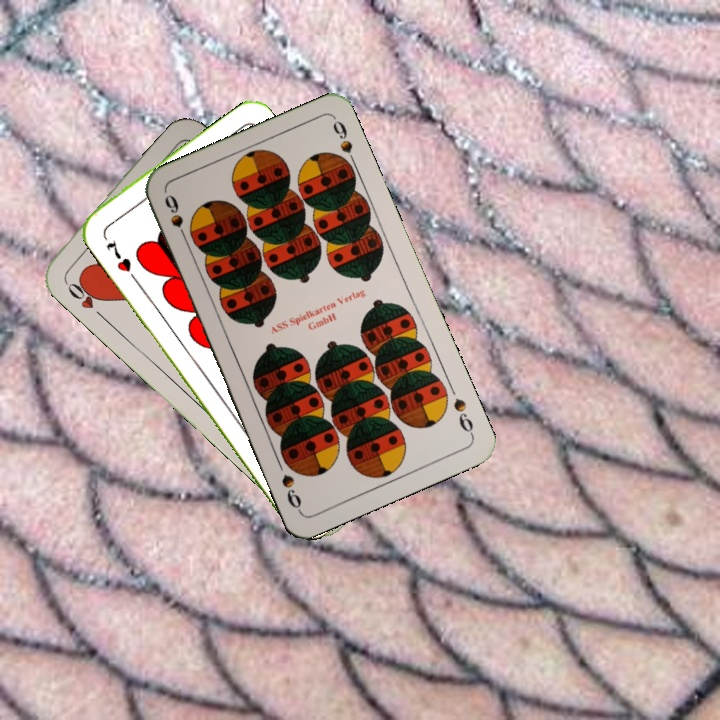H7: (102, 235, 139, 283)
HO: (60, 273, 107, 321)
S9: (160, 190, 191, 247), (449, 394, 477, 439)
